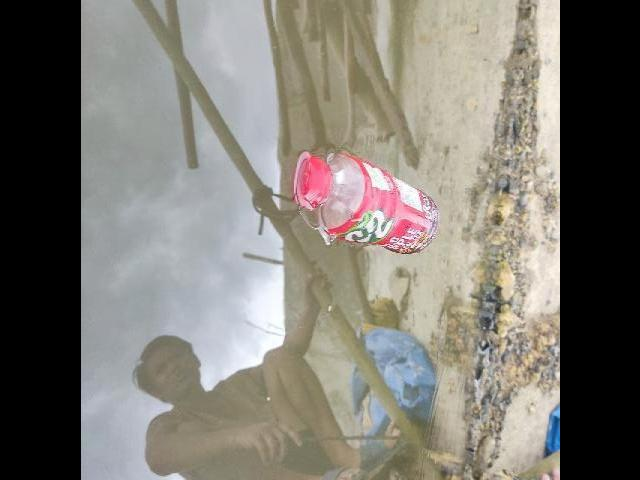Bottle: (288, 138, 444, 264)
